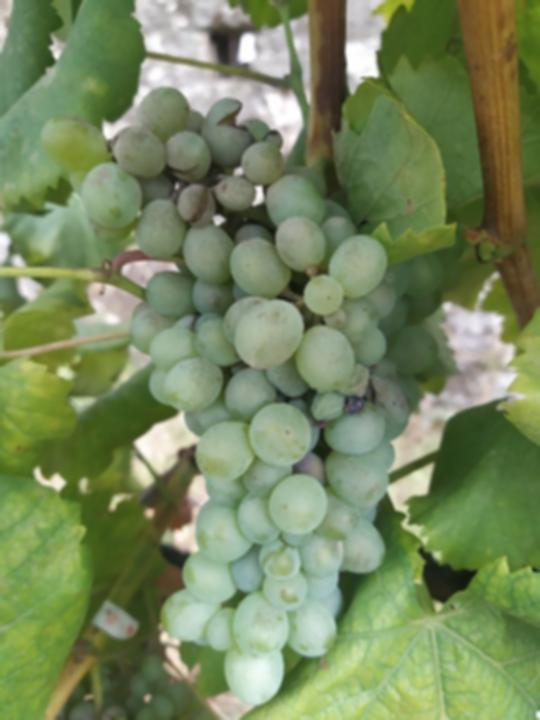grape: (37, 84, 442, 709)
